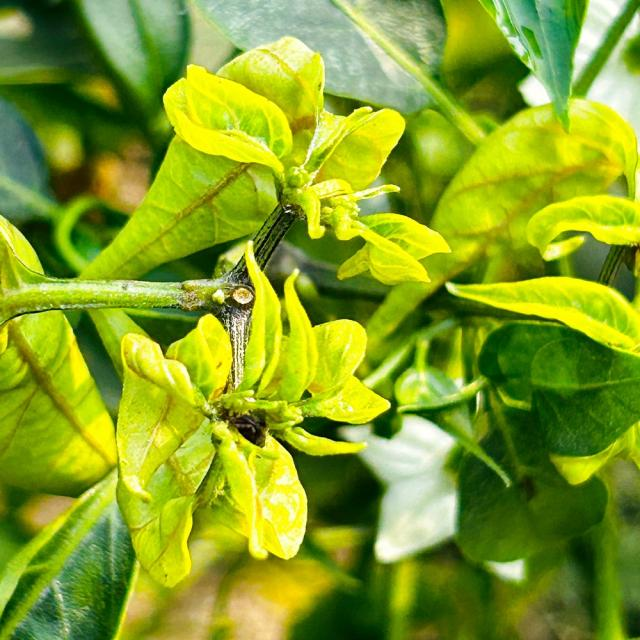Chilli_Leaf_Curl: (1, 1, 638, 636), (113, 241, 391, 588), (155, 35, 452, 288), (444, 275, 638, 355), (478, 0, 590, 132)
